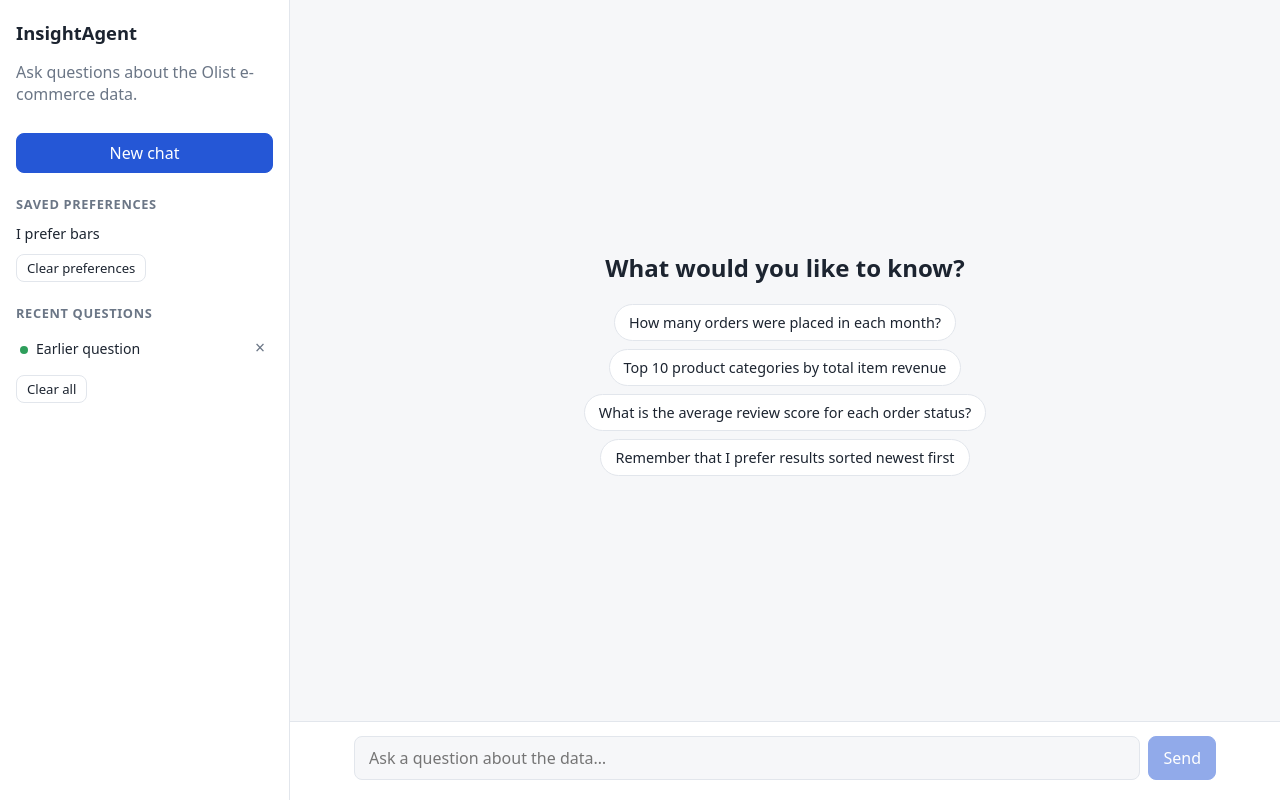
it: App › sends "false" when the user cancels an expensive query
Type "big join" into the field labelled "question" at (747, 758), box [354,736,1140,780]
Then press Enter
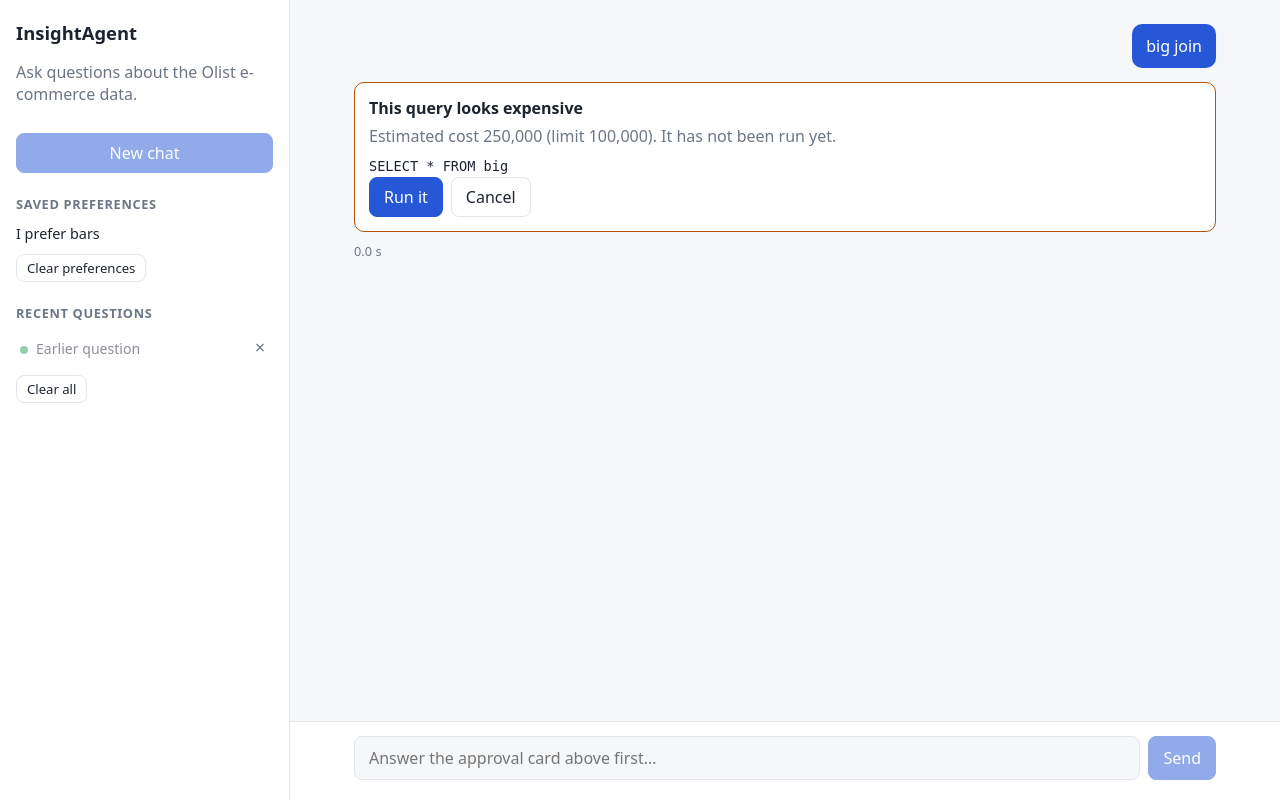
Click the button "Cancel" at (491, 197), box [451,177,531,217]
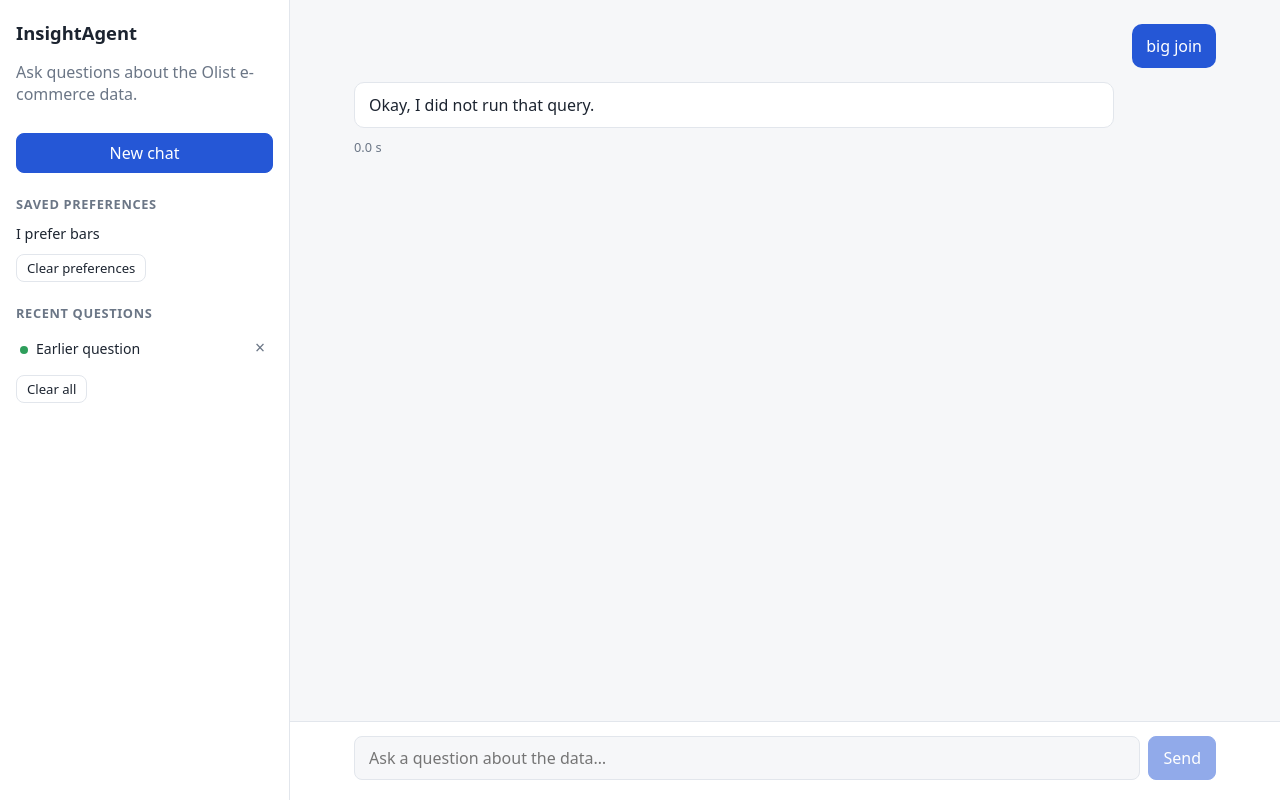
Check: the text "Okay, I did not run that query." is shown, box [354,82,1114,128]
